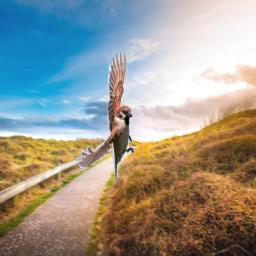Sparrow: (76, 51, 134, 181)
